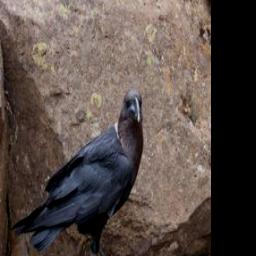Crow: (11, 87, 143, 256)
